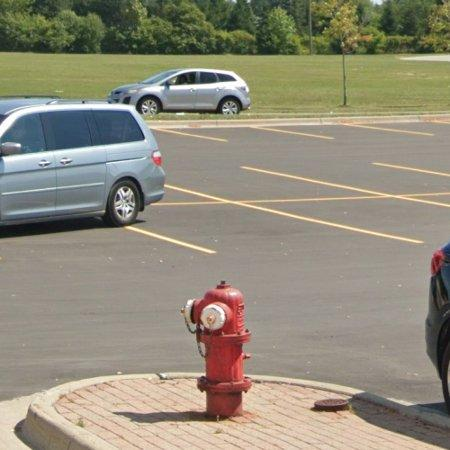a fire hydrant: (184, 282, 252, 418)
